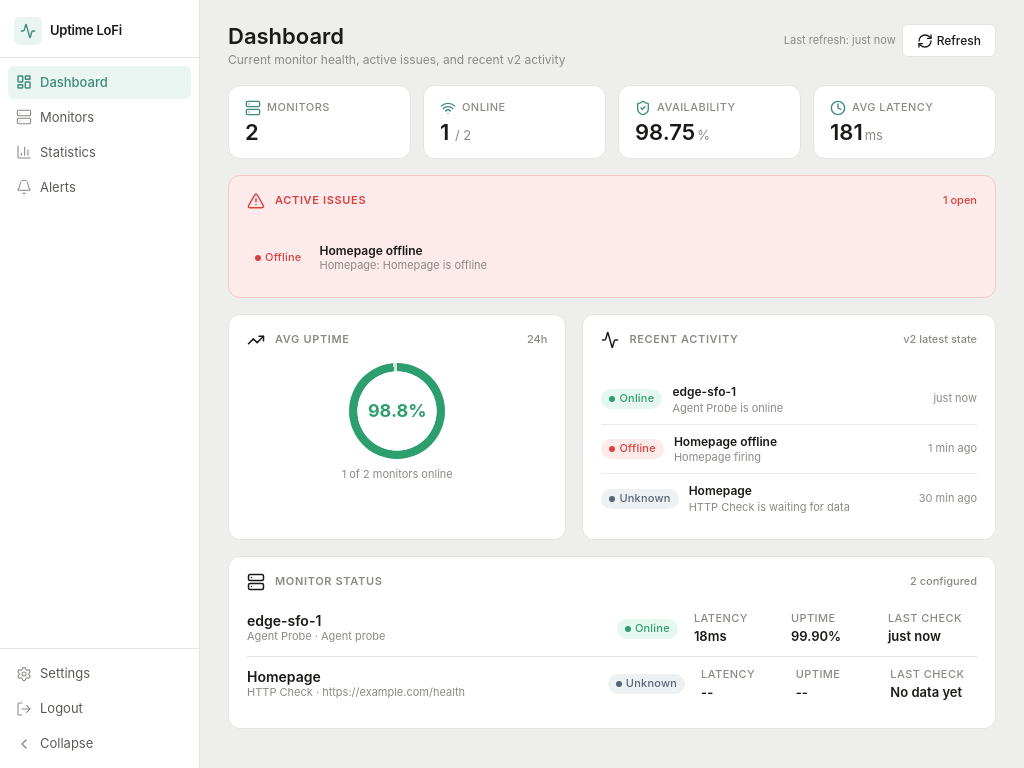
it: Monitors page › renders unified monitor management controls
The width and height of the screenshot is (1024, 768).
Click the button "Monitors": (100, 117) [8, 101, 191, 134]
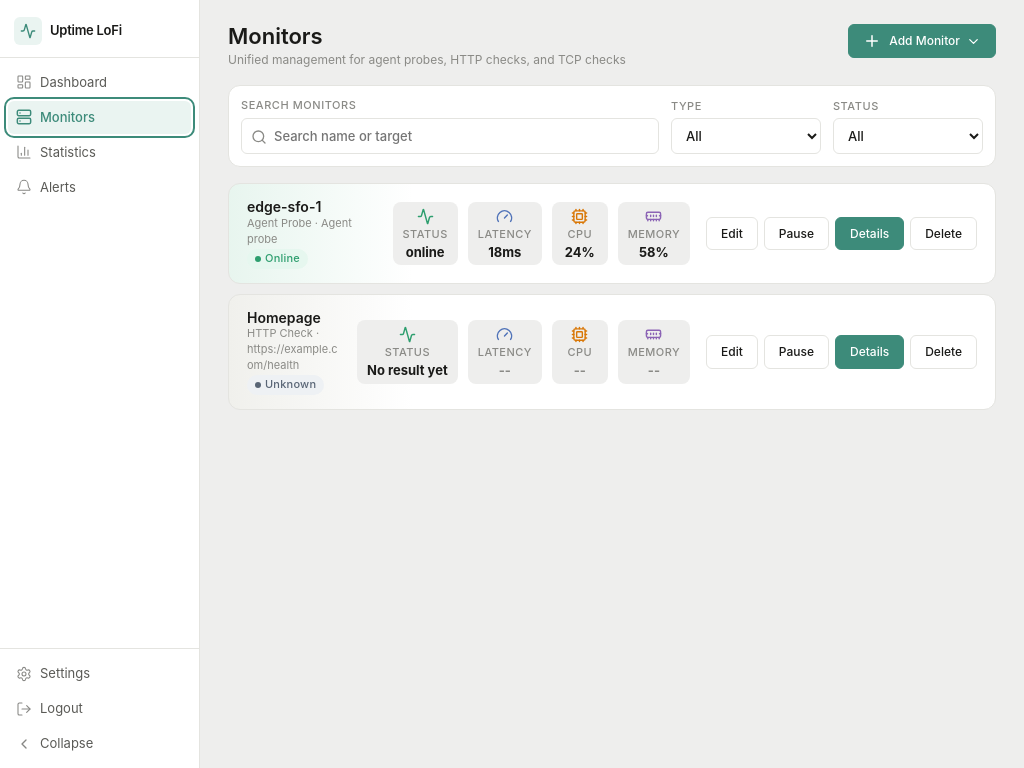
Result: the heading "Monitors" is shown at [228, 23, 323, 49]
Click the button "Add Monitor": (922, 41) [848, 24, 996, 58]
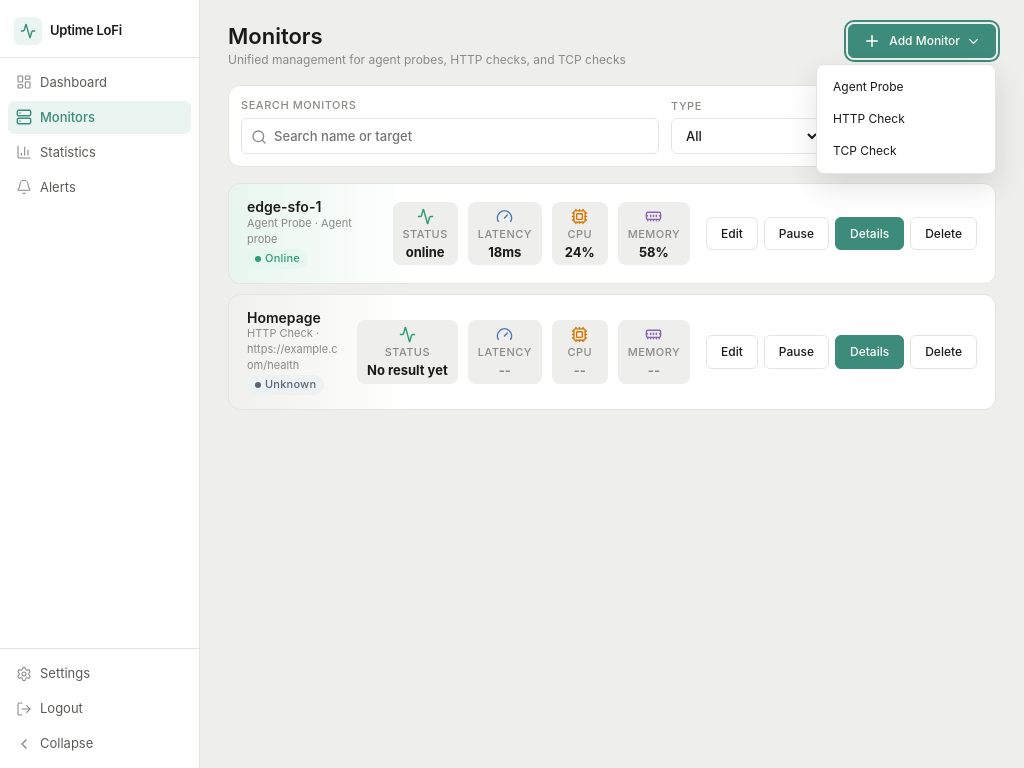
Result: the menu item "Agent Probe" is shown at [823, 71, 989, 103]
Result: the menu item "HTTP Check" is shown at [823, 103, 989, 135]
Result: the menu item "TCP Check" is shown at [823, 135, 989, 167]
